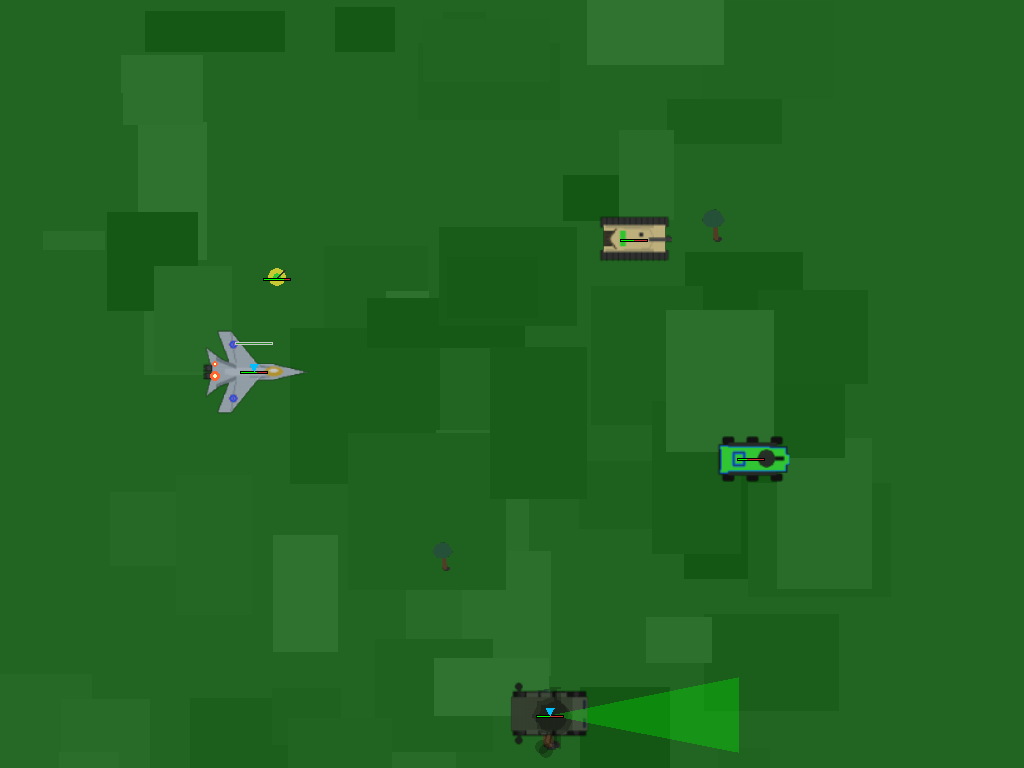AttackPlane_usa: (721, 427, 780, 486)
KirovAirship: (229, 345, 279, 395)
RadarBuilding: (506, 670, 594, 758)
Rifleman: (259, 260, 293, 294)
WZ10: (601, 205, 666, 270)
